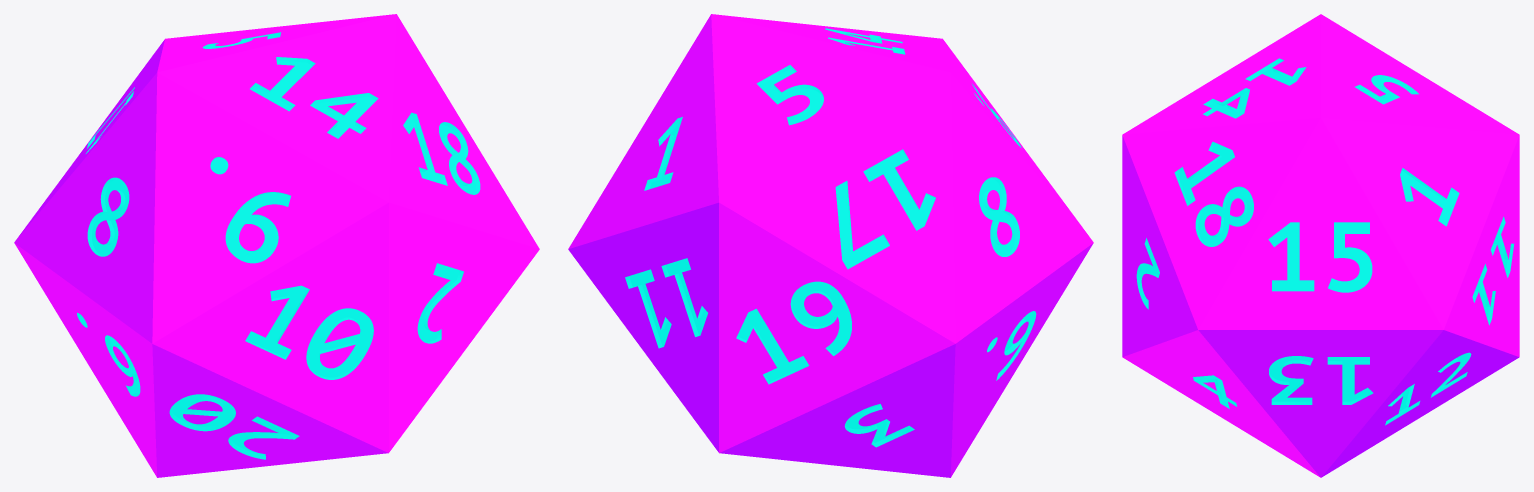
3 views of the same model, side by side, from view 1: azimuth 30°, elevation 25°; view 2: azimuth 150°, elevation 25°; view 3: azimuth 270°, elevation 25° (orthographic). The views are drawn at different scales.
Visible parts, largest first — view 1: d20.001; view 2: d20.001; view 3: d20.001.
Boxes of the visible parts, left/top/right/bottom form: d20.001: left=14, top=14, right=539, bottom=477; d20.001: left=568, top=14, right=1093, bottom=477; d20.001: left=1122, top=14, right=1519, bottom=477.
Bounding box in the file's own units: 1.7 × 1.7 × 1.7.
